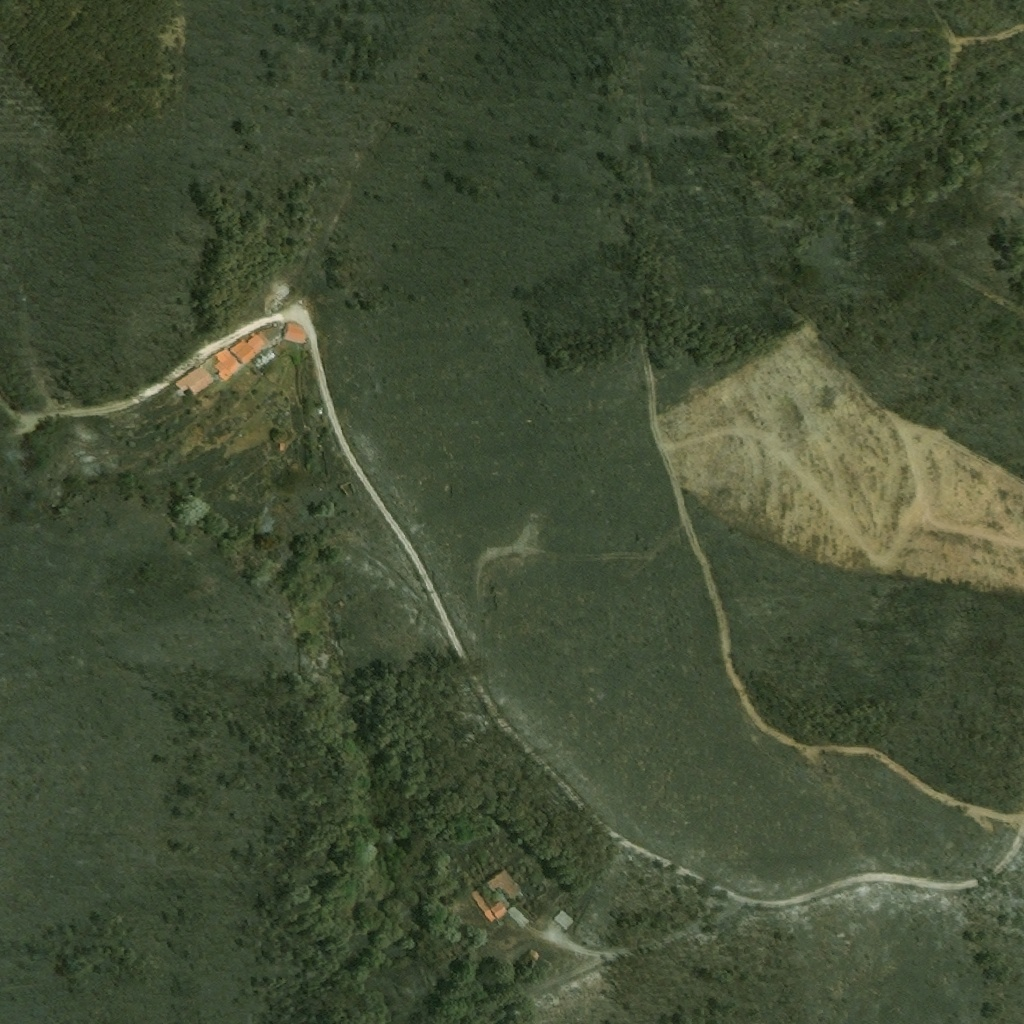0 no-damage: (487, 868, 532, 908), (471, 887, 509, 924), (174, 364, 216, 396), (231, 333, 270, 366), (213, 348, 243, 383), (554, 908, 577, 932), (284, 324, 309, 345)
3 destroyed: (264, 284, 297, 316), (253, 415, 264, 427)
